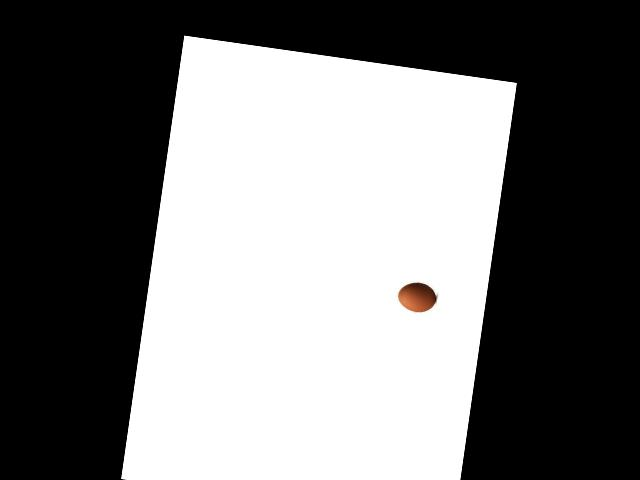egg: (396, 279, 438, 313)
